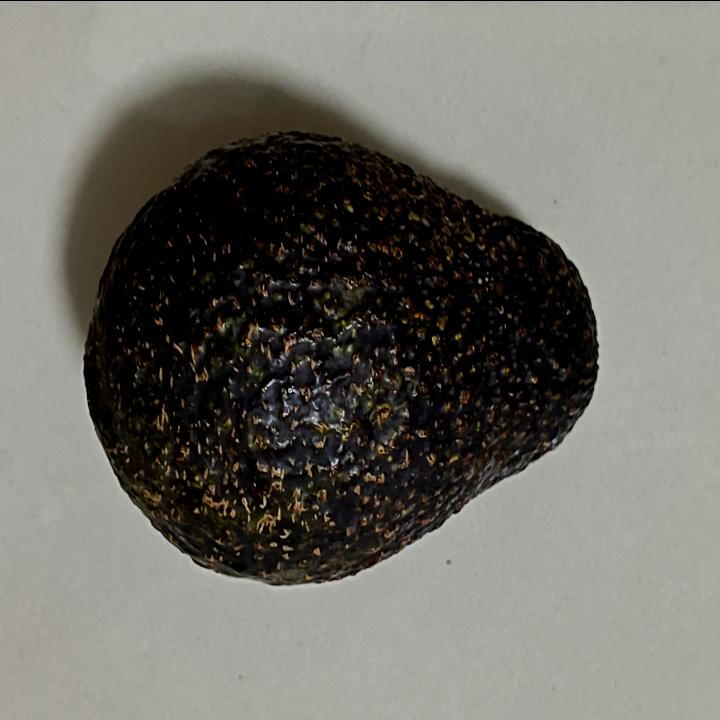Level2: (75, 122, 604, 594)
